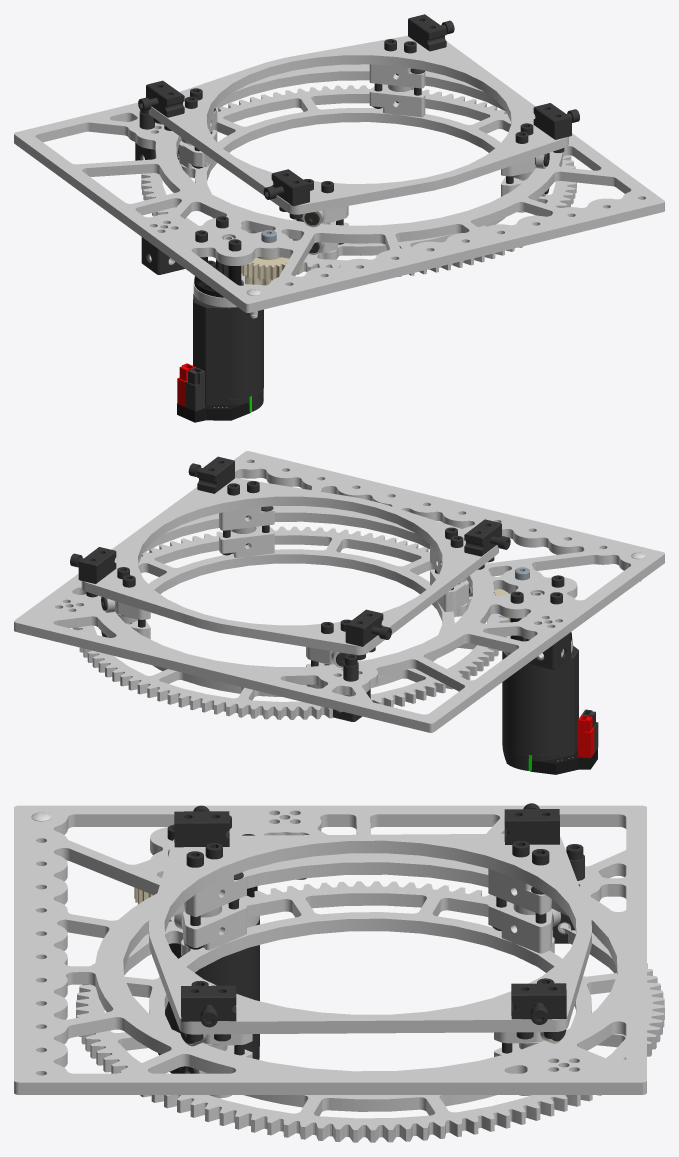
3 views of the same model, one above another, from view 1: azimuth 30°, elevation 25°; view 2: azimuth 150°, elevation 25°; view 3: azimuth 270°, elevation 25° (orthographic). The views are drawn at different scales.
Visible parts, largest first — view 1: Base Plate, Upper Plate, Turret Gear, Kraken X44 Brushless Motor, Nut Strip (1/2" Square ,1" , #10-32 Tapped, Alternating .5"  (×4), WCP-1458-001 Rev2 (×2), WCP-1458-001 Rev2_1, 30t Aluminum Spur Gear (20 DP, 1/2" Hex Bore), Tube Plug Sleeve (1" x 1" x 0.06"); view 2: Base Plate, Turret Gear, Upper Plate, Kraken X44 Brushless Motor, Nut Strip (1/2" Square ,1" , #10-32 Tapped, Alternating .5"  (×4), WCP-1458-001 Rev2 (×2), WCP-1458-001 Rev2_1, Tube Plug Sleeve (1" x 1" x 0.06"); view 3: Base Plate, Turret Gear, Upper Plate, Nut Strip (1/2" Square ,1" , #10-32 Tapped, Alternating .5"  (×4), WCP-1458-001 Rev2 (×2), WCP-1458-001 Rev2_1 (×2), Kraken X44 Brushless Motor.
Part boxes in pixels (x1,y1,x2,y2): Base Plate: (14,41,664,312); Upper Plate: (149,35,568,214); Turret Gear: (141,85,576,276); Kraken X44 Brushless Motor: (177,236,263,422); Nut Strip (1/2" Square ,1" , #10-32 Tapped, Alternating .5"  (×4): (146,14,571,206); WCP-1458-001 Rev2 (×2): (179,84,425,168); WCP-1458-001 Rev2_1: (369,64,425,88); 30t Aluminum Spur Gear (20 DP, 1/2" Hex Bore): (241,257,301,280); Tube Plug Sleeve (1" x 1" x 0.06"): (141,237,184,274); Base Plate: (14,451,664,732); Turret Gear: (72,526,508,719); Upper Plate: (81,478,498,655); Kraken X44 Brushless Motor: (502,592,598,774); Nut Strip (1/2" Square ,1" , #10-32 Tapped, Alternating .5"  (×4): (78,456,501,646); WCP-1458-001 Rev2 (×2): (219,526,468,611); WCP-1458-001 Rev2_1: (219,507,274,530); Tube Plug Sleeve (1" x 1" x 0.06"): (526,632,570,669); Base Plate: (14,805,646,1094); Turret Gear: (76,881,664,1142); Upper Plate: (148,833,591,1034); Nut Strip (1/2" Square ,1" , #10-32 Tapped, Alternating .5"  (×4): (174,809,566,1021); WCP-1458-001 Rev2 (×2): (183,901,552,953); WCP-1458-001 Rev2_1 (×2): (184,869,551,916); Kraken X44 Brushless Motor: (158,917,259,1073).
Bounding box in the file's own units: 0.3118 × 0.1456 × 0.3004.
